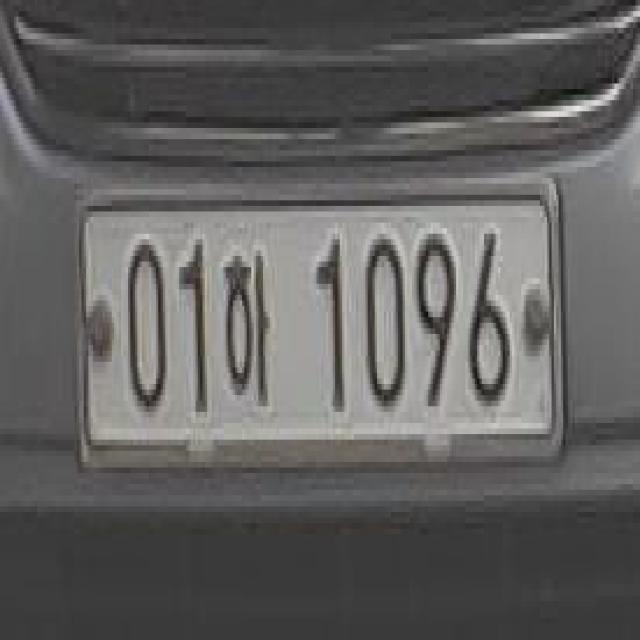illegal_plate: (80, 182, 563, 481)
